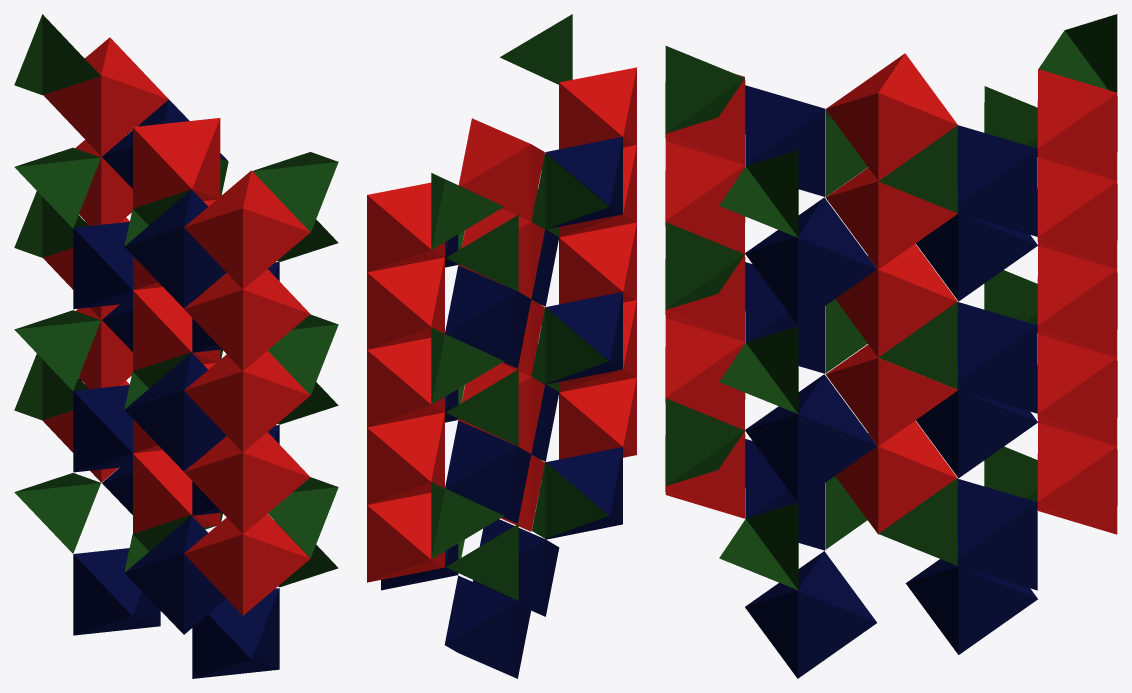
Rendered from Olivina.obj.
3 renders of one model, left to right at view 1: azimuth 30°, elevation 25°; view 2: azimuth 150°, elevation 25°; view 3: azimuth 270°, elevation 25°, orthographic. The views are drawn at different scales.
Parts seen in each view (by area): view 1: Olivina_full_Solid.009_Coordenacao6, Olivina_full_Solid.009_Coordenacao_8, Olivina_full_Solid.009_tetraedros; view 2: Olivina_full_Solid.009_Coordenacao6, Olivina_full_Solid.009_Coordenacao_8, Olivina_full_Solid.009_tetraedros; view 3: Olivina_full_Solid.009_Coordenacao6, Olivina_full_Solid.009_Coordenacao_8, Olivina_full_Solid.009_tetraedros.
Part boxes in pixels (x1,y1,x2,y2): Olivina_full_Solid.009_Coordenacao6: [42, 37, 310, 615]; Olivina_full_Solid.009_Coordenacao_8: [73, 99, 279, 678]; Olivina_full_Solid.009_tetraedros: [14, 14, 338, 587]; Olivina_full_Solid.009_Coordenacao6: [367, 67, 636, 582]; Olivina_full_Solid.009_Coordenacao_8: [381, 137, 622, 678]; Olivina_full_Solid.009_tetraedros: [431, 14, 608, 600]; Olivina_full_Solid.009_Coordenacao6: [665, 53, 1117, 534]; Olivina_full_Solid.009_Coordenacao_8: [745, 85, 1037, 678]; Olivina_full_Solid.009_tetraedros: [665, 14, 1117, 590].
Bounding box in the file's own units: 0.3005 × 0.9878 × 0.6558.
